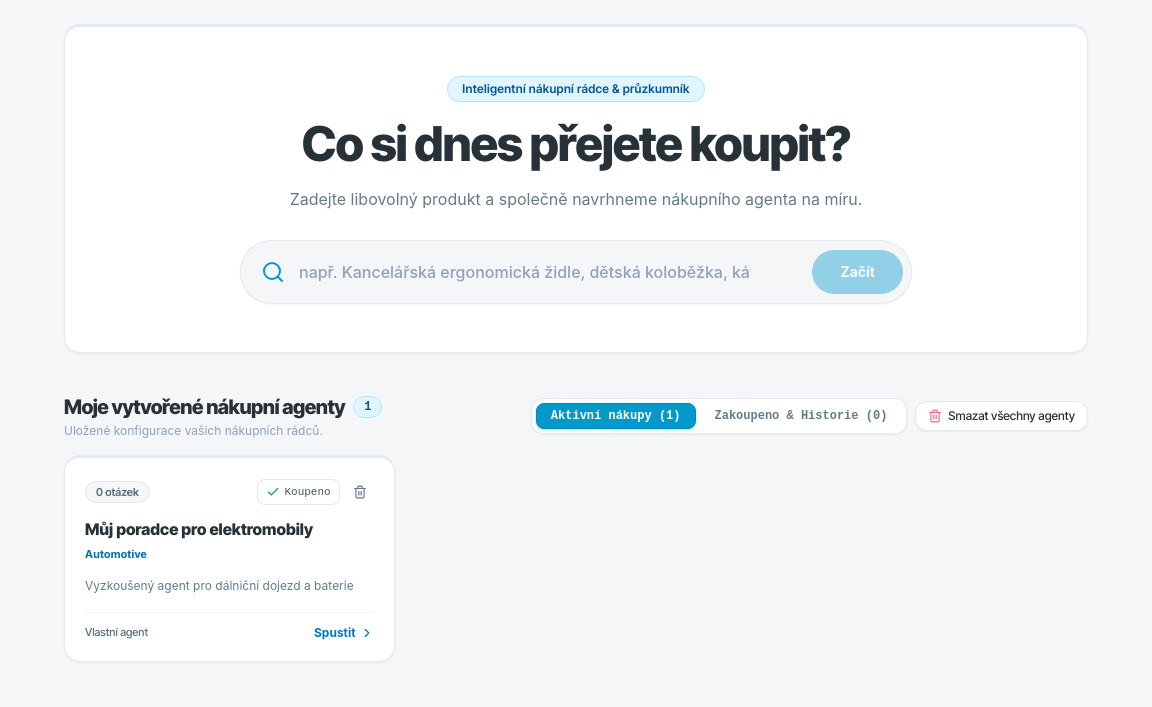
AgentCategoryLauncher Unit Test Suite (PRD v1) › 11. Zobrazuje kartu chybového stavu s tlačítkem Zkusit znovu při selhání API
Step 1. Replace the text in the field with placeholder "Kancelářská ergonomická židle" with "neznámý produkt" → (598, 272), box top-left (285, 241), bottom-right (911, 303)
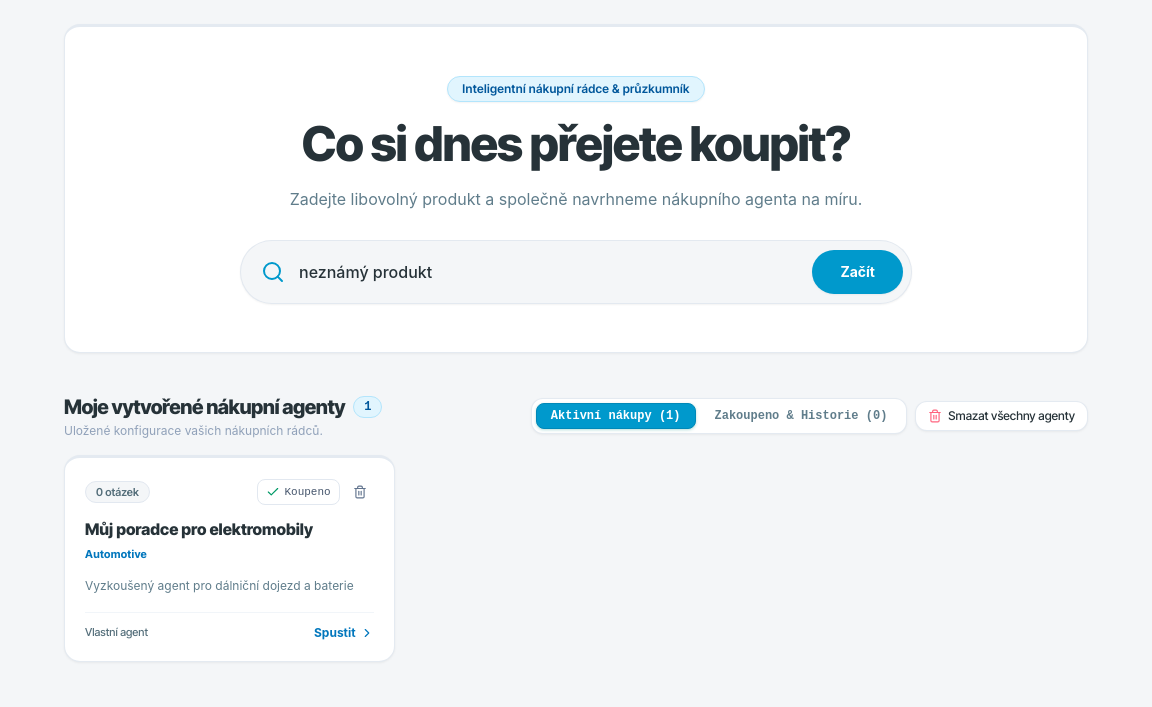
Step 2. Click the button "Začít" → (858, 272), box top-left (812, 250), bottom-right (903, 294)
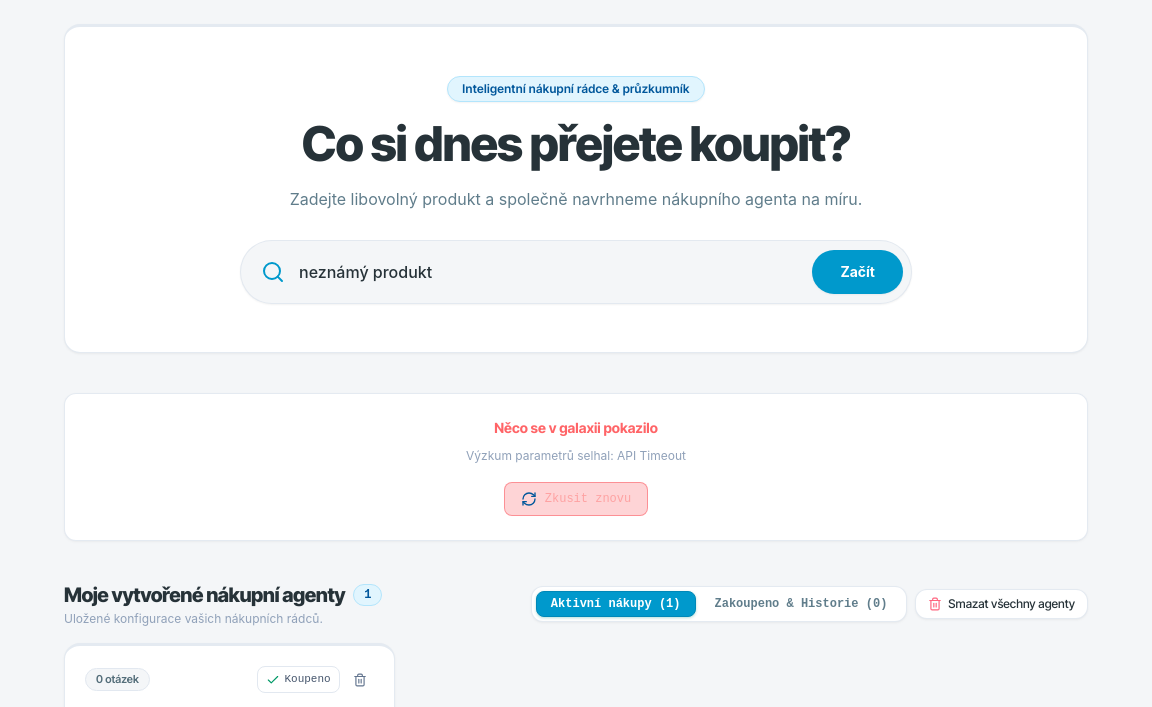
Check: the text "Výzkum parametrů selhal: API Timeout" is shown, box top-left (466, 448), bottom-right (686, 463)
Check: the button "Zkusit znovu" is shown, box top-left (504, 482), bottom-right (648, 516)
